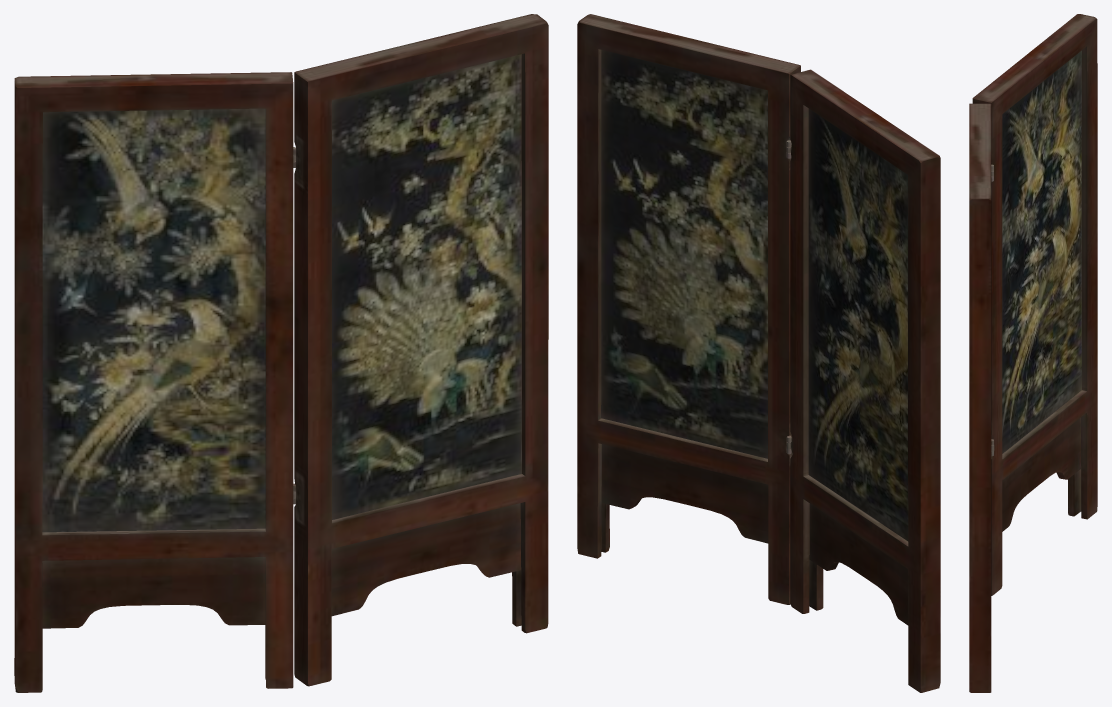
Rendered from screenpanel.glb.
3 renders of one model, left to right at view 1: azimuth 30°, elevation 25°; view 2: azimuth 150°, elevation 25°; view 3: azimuth 270°, elevation 25°, orthographic. The views are drawn at different scales.
Parts seen in each view (by area): view 1: chinese_screen_panels_a; view 2: chinese_screen_panels_a; view 3: chinese_screen_panels_a.
Boxes of the visible parts, x1,y1,x2,y2 form: chinese_screen_panels_a: (14,14,548,692); chinese_screen_panels_a: (577,14,940,692); chinese_screen_panels_a: (969,14,1097,692).
Bounding box in the file's own units: 1.29 × 1.6 × 0.3769.
Materials: 1 (1 with a texture image).
